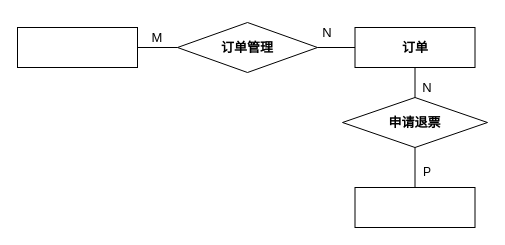
Image size: 505x245. Some labels were removed from this diagram. Here are the shapes that lost their labels. From the top down, the box of each, then its label:
(16, 26, 138, 68): 营业员
(354, 186, 475, 228): 用户
